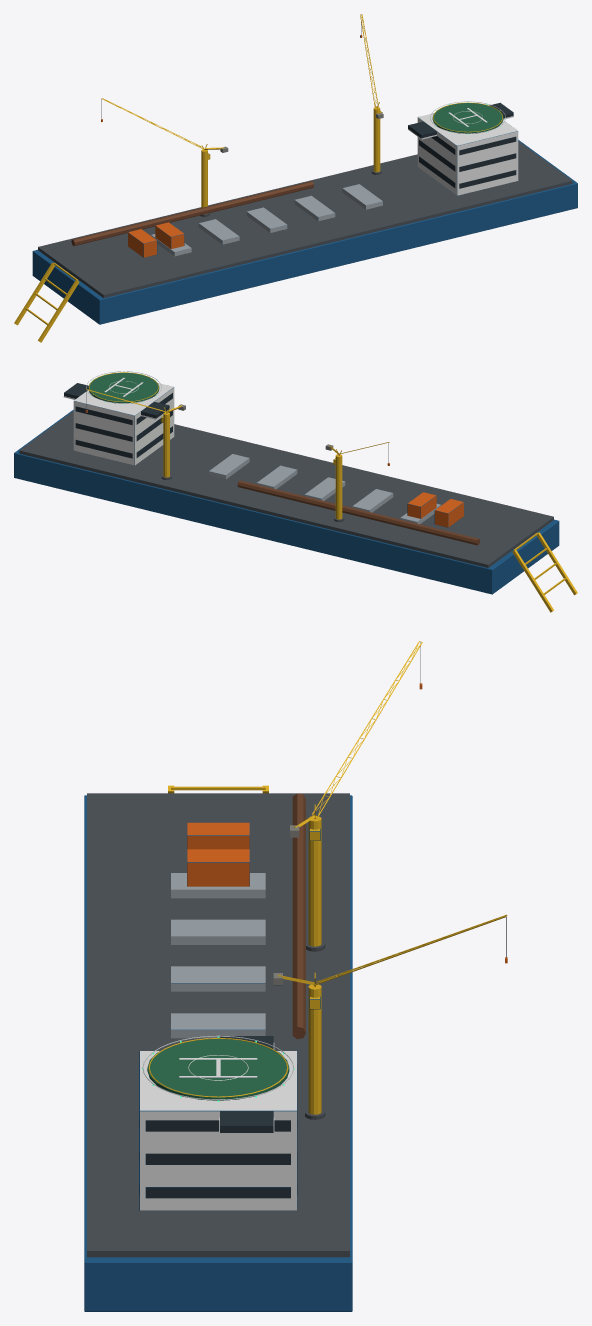
Rendered from off_pipelay_barge.glb.
The picture shows the model from 3 angles, top to bottom: view 1: azimuth 30°, elevation 25°; view 2: azimuth 150°, elevation 25°; view 3: azimuth 270°, elevation 25°; orthographic projection. The views are drawn at different scales.
Visible parts, largest first — view 1: off_pipelay_barge; view 2: off_pipelay_barge; view 3: off_pipelay_barge.
Part boxes in pixels (x1,y1,x2,y2): off_pipelay_barge: (14,14,577,342); off_pipelay_barge: (14,371,577,612); off_pipelay_barge: (84,641,507,1311).
Size of the model in its own units: 152 by 47.02 by 53.65.
